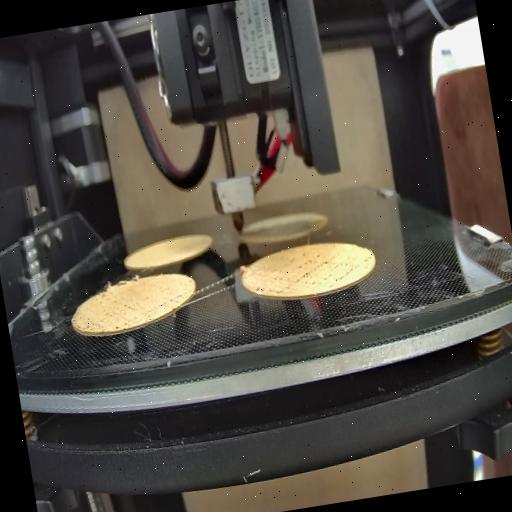under_extrusion: (291, 244, 362, 294), (84, 291, 142, 336), (252, 276, 288, 300), (154, 287, 190, 310)
